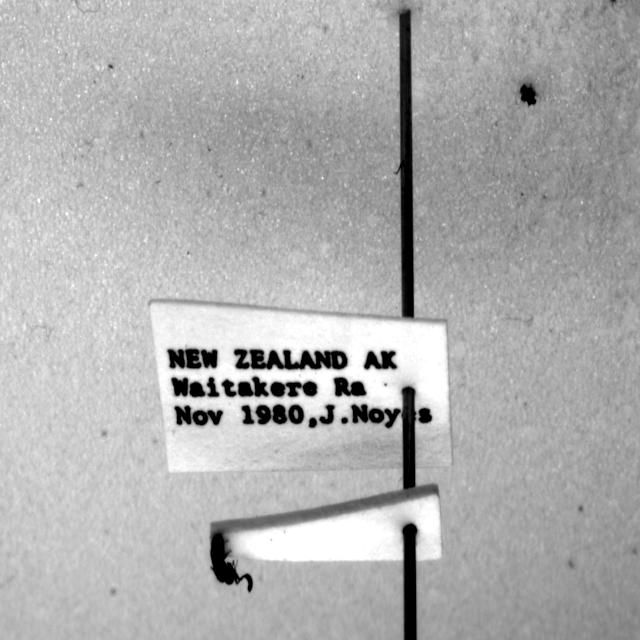typed_label: (150, 300, 452, 472)
